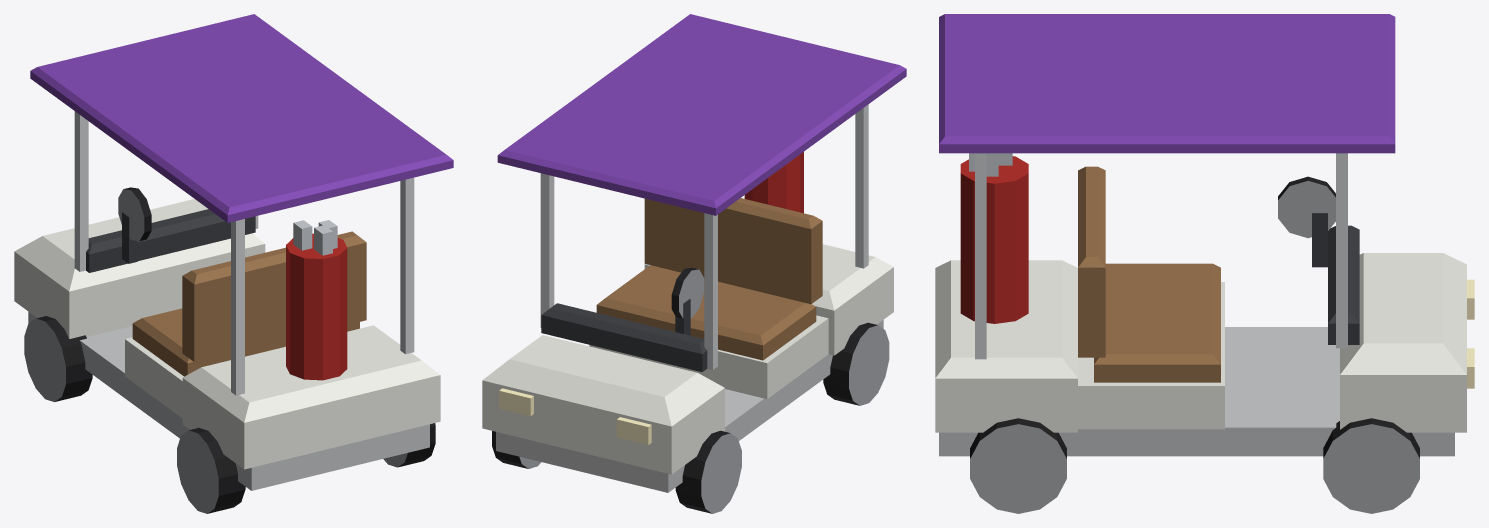
File: cart_purple.glb
3 views of the same model, side by side, from view 1: azimuth 30°, elevation 25°; view 2: azimuth 150°, elevation 25°; view 3: azimuth 270°, elevation 25° (orthographic). The views are drawn at different scales.
Visible parts, largest first — view 1: cart_body; view 2: cart_body; view 3: cart_body.
Boxes of the visible parts, x1=… form: cart_body: x1=14, y1=14, x2=453, y2=513; cart_body: x1=482, y1=14, x2=906, y2=513; cart_body: x1=935, y1=14, x2=1474, y2=513.
Bounding box in the file's own units: 1.52 × 2.1 × 2.72.
Materials: 1 (1 with a texture image).
